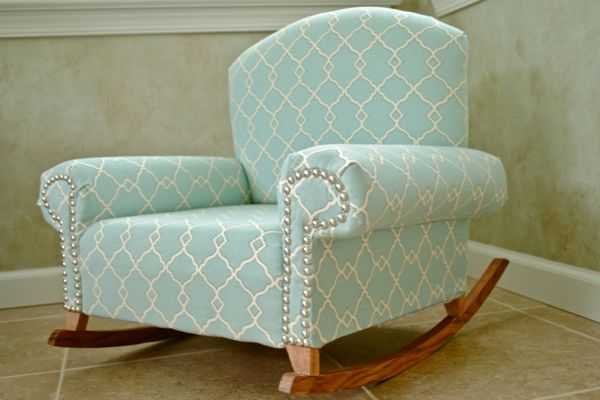chairs: (37, 6, 519, 398)
